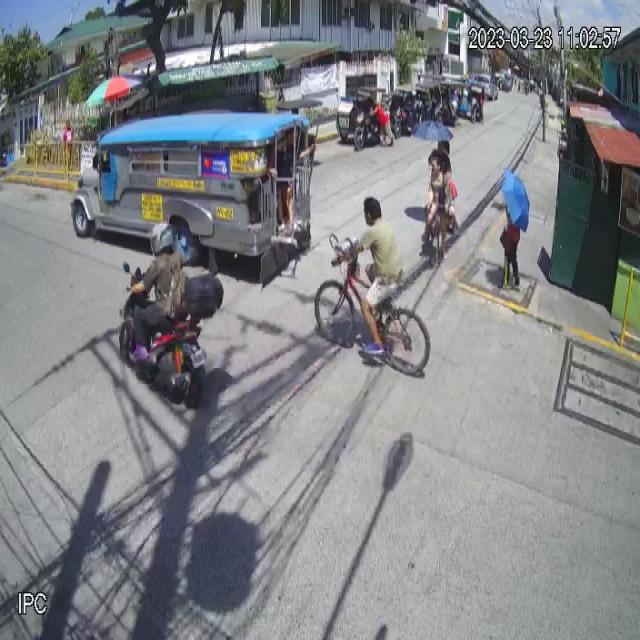Jeep: (70, 110, 312, 282)
Motorcycle: (118, 259, 225, 408)
